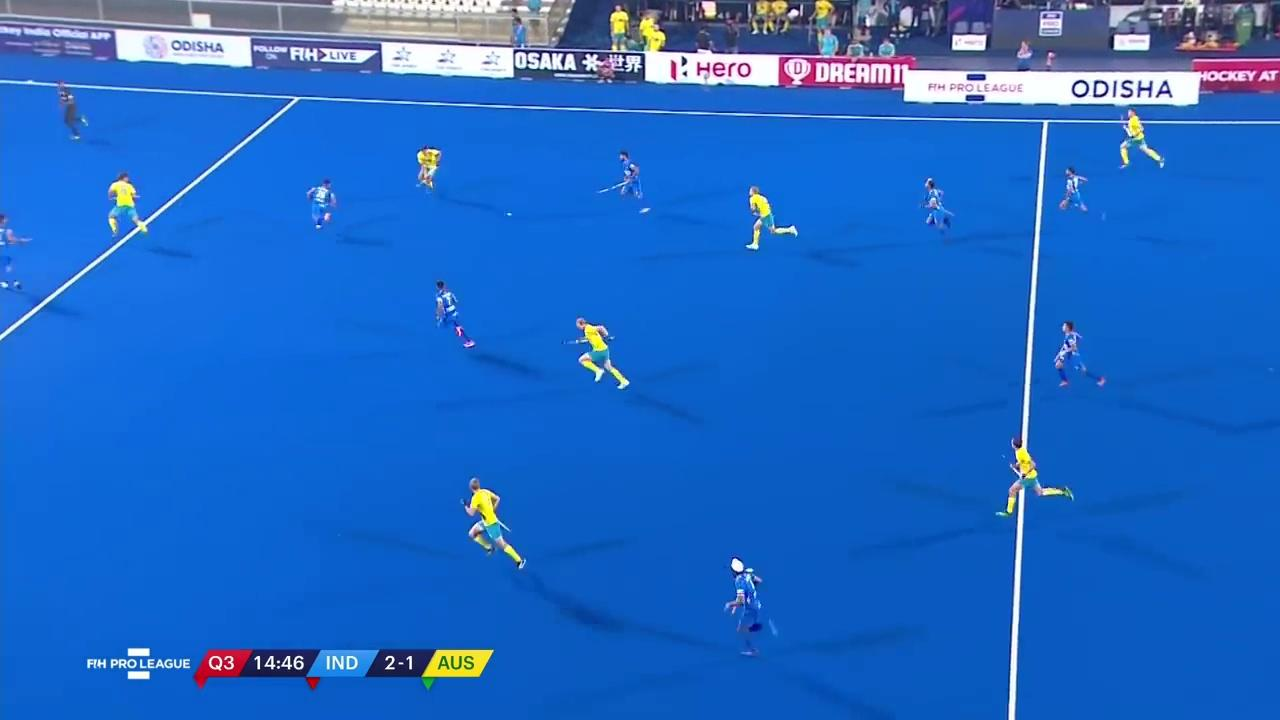ball: (501, 208, 516, 219)
